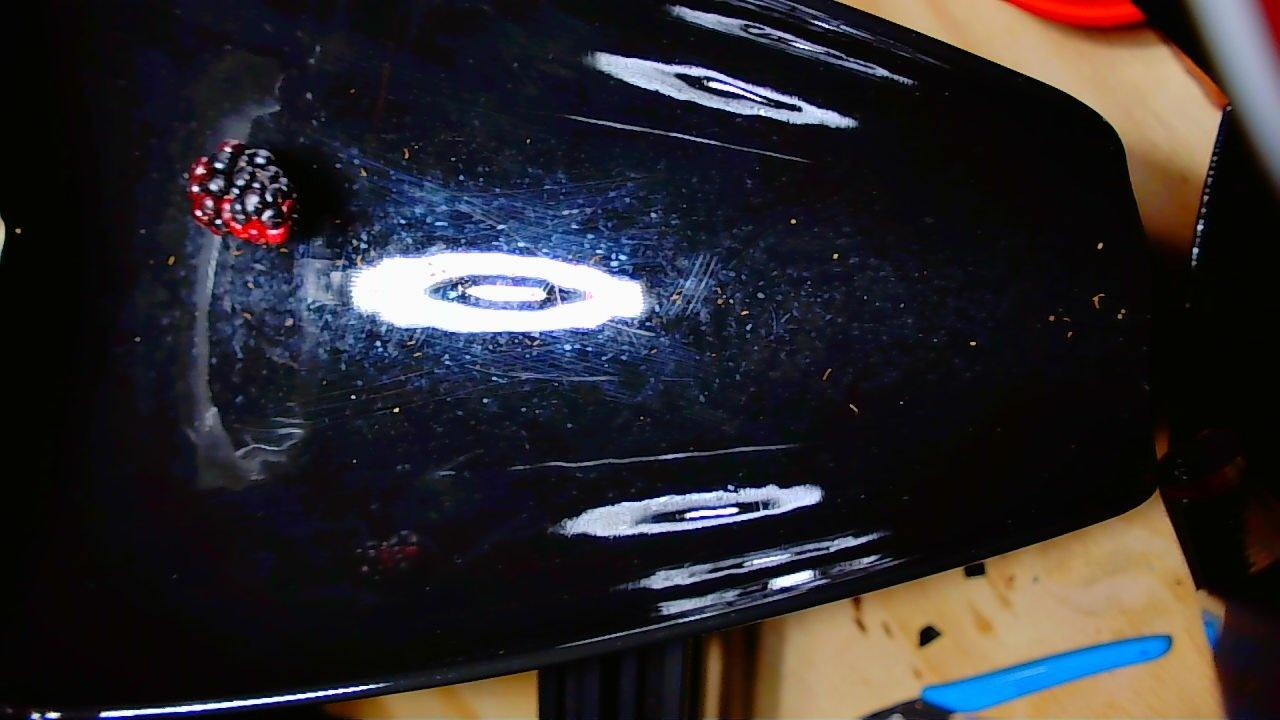berry: (187, 140, 296, 244)
